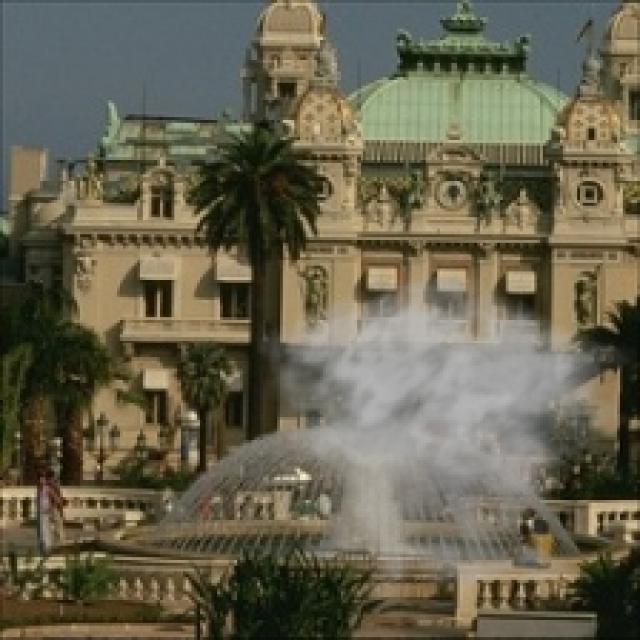smoke: (257, 274, 637, 617)
